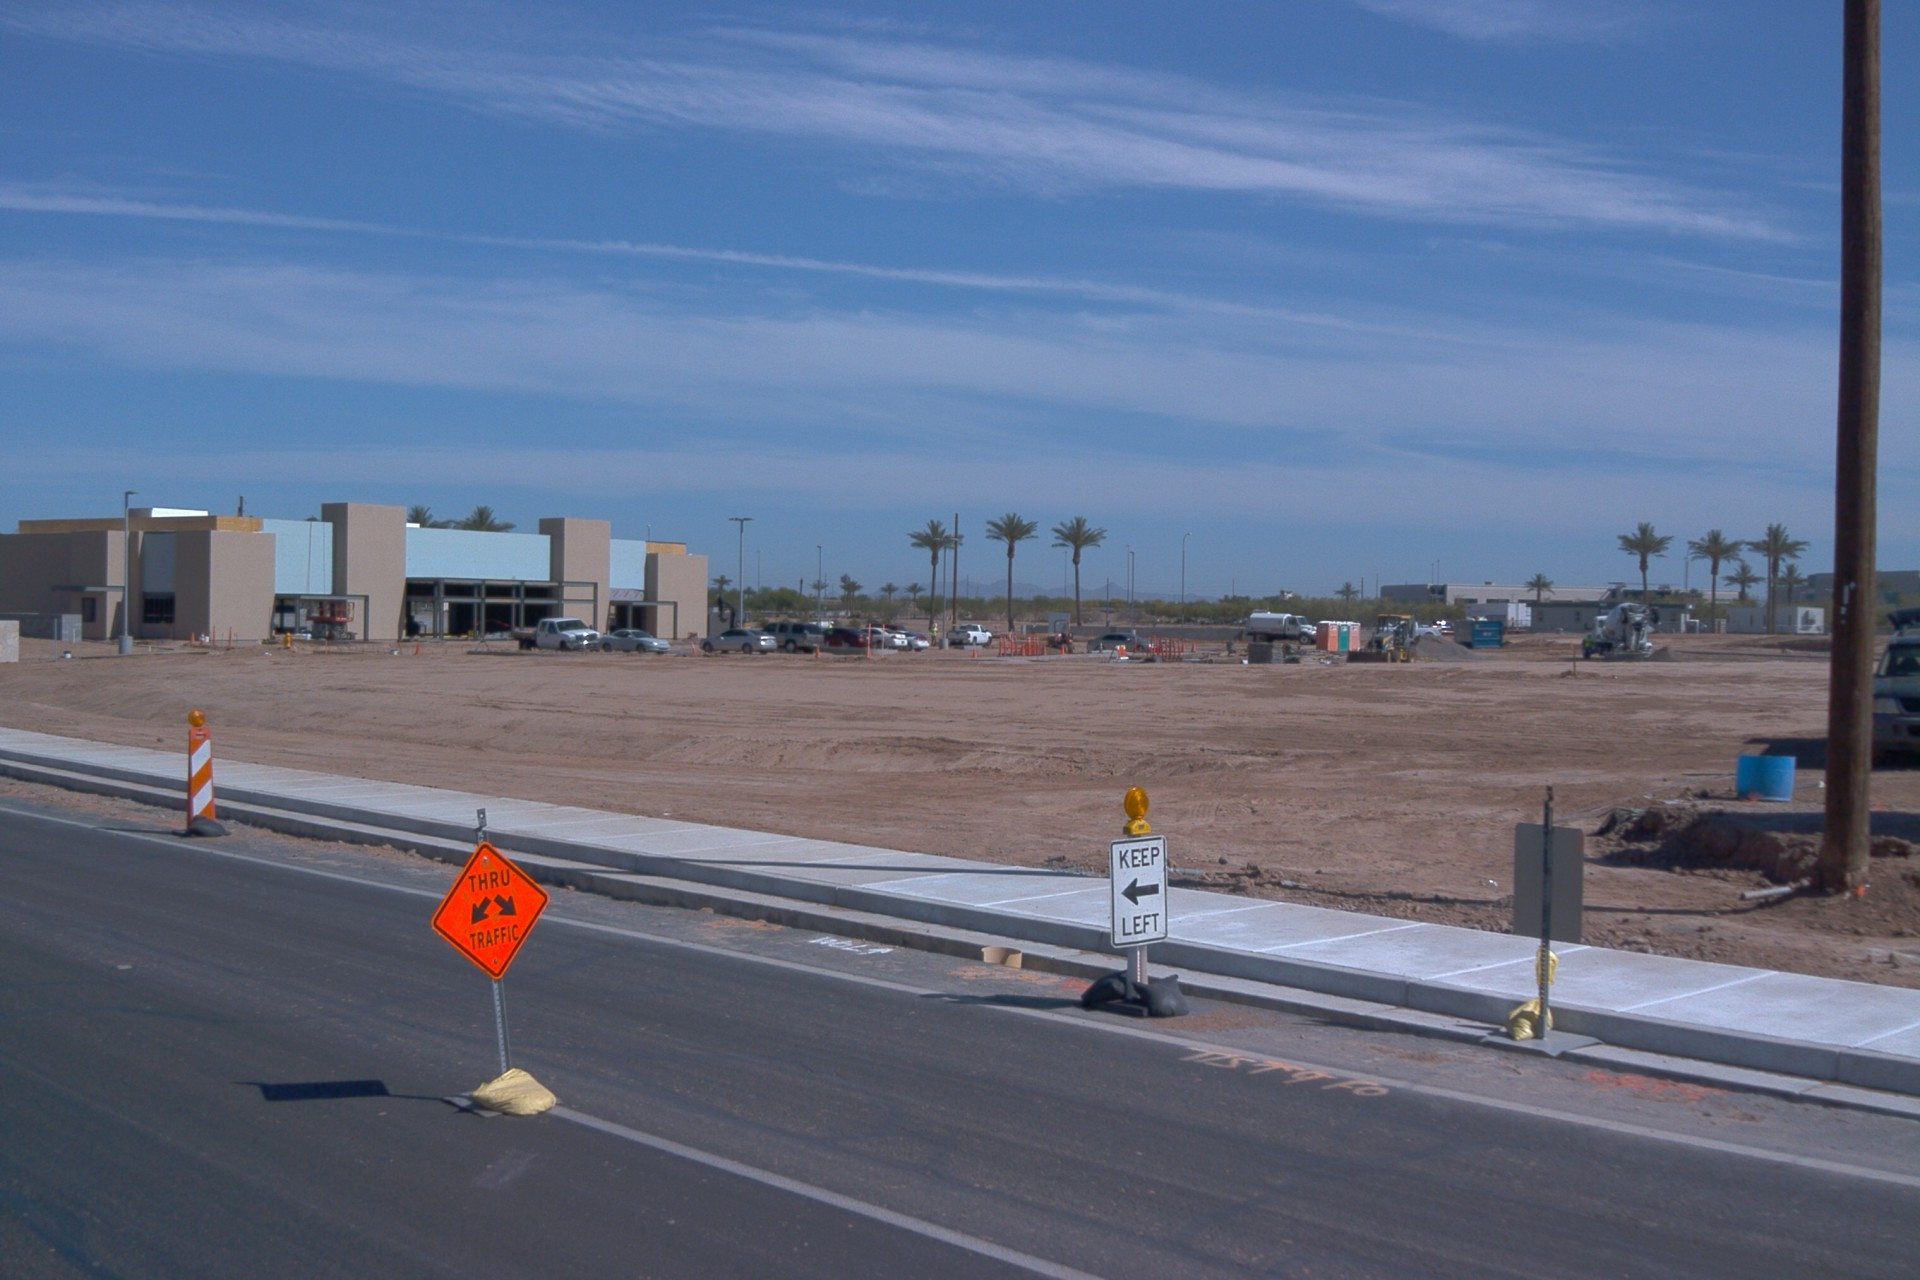TYPE_PEDESTRIAN: (1583, 633, 1594, 662), (929, 621, 939, 646)
TYPE_VEHICLE: (1870, 620, 1920, 764), (1581, 607, 1665, 665), (1345, 613, 1419, 668), (515, 618, 604, 658), (755, 620, 826, 661), (1245, 610, 1315, 649), (697, 627, 778, 657), (600, 629, 669, 652), (819, 627, 877, 653), (1086, 630, 1156, 651), (1380, 621, 1443, 644), (945, 625, 995, 651), (867, 626, 926, 646), (861, 629, 911, 652), (896, 629, 928, 652), (808, 621, 833, 633)
